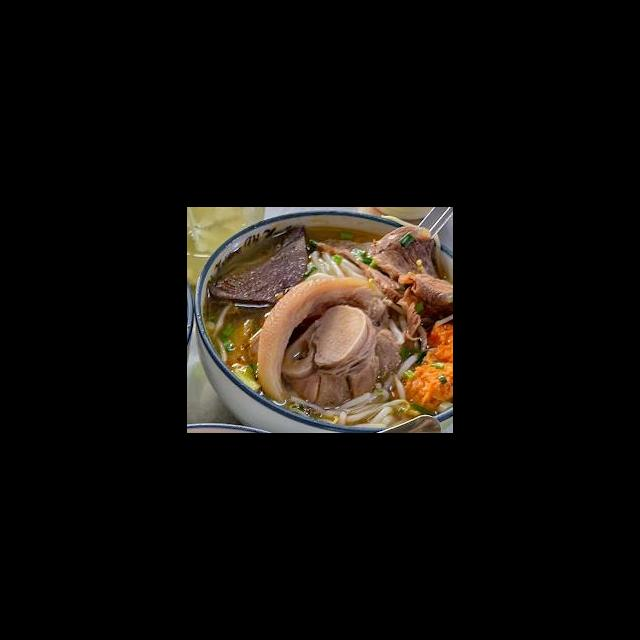bun: (288, 352, 423, 433), (303, 244, 371, 284)
bun bo: (208, 220, 444, 416)
thit bo: (305, 221, 453, 310)
thit heo: (290, 328, 405, 410)
